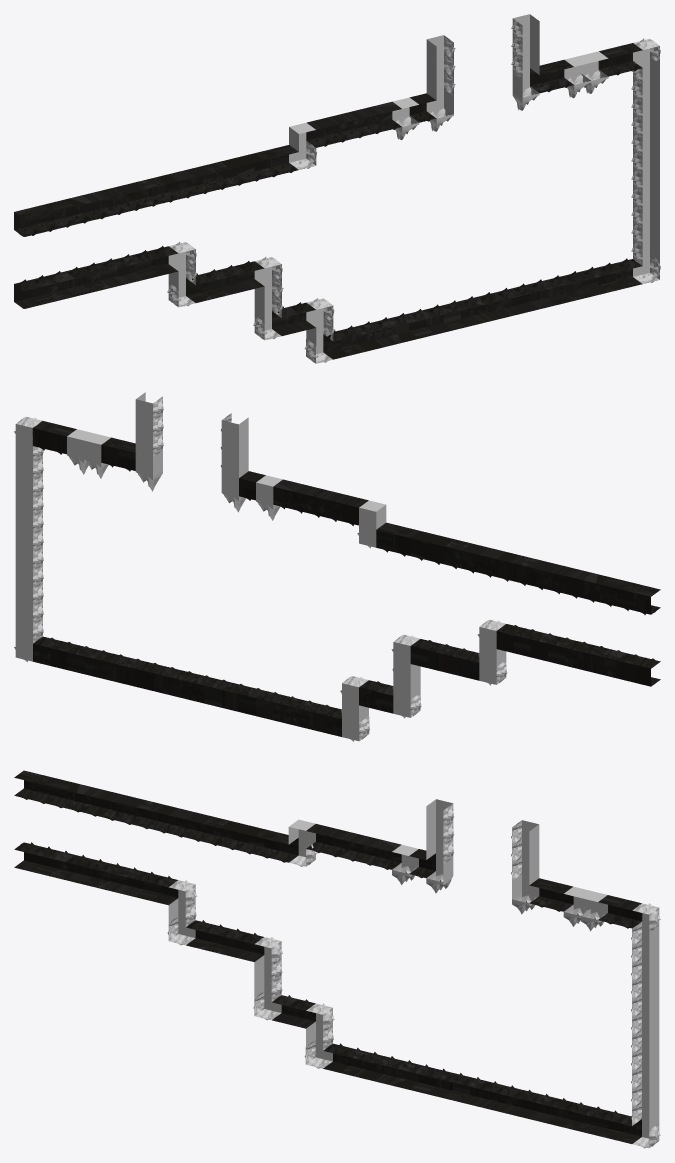
The model's file is Cubi_Room1.fbx.
3 renders of one model, top to bottom at view 1: azimuth 30°, elevation 25°; view 2: azimuth 150°, elevation 25°; view 3: azimuth 330°, elevation 25°, orthographic.
Visible parts, largest first — view 1: Cubes_Room1; view 2: Cubes_Room1; view 3: Cubes_Room1.
Part boxes in pixels (left/top/right/bottom): Cubes_Room1: left=14, top=14, right=660, bottom=363; Cubes_Room1: left=14, top=392, right=660, bottom=741; Cubes_Room1: left=14, top=770, right=660, bottom=1148.
Bounding box in the file's own units: 3721 × 1622 × 100.
